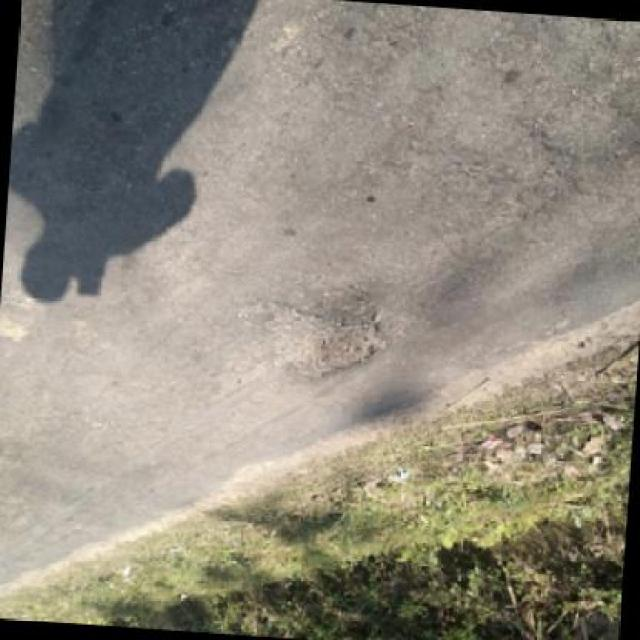pothole1: (263, 297, 392, 388)
